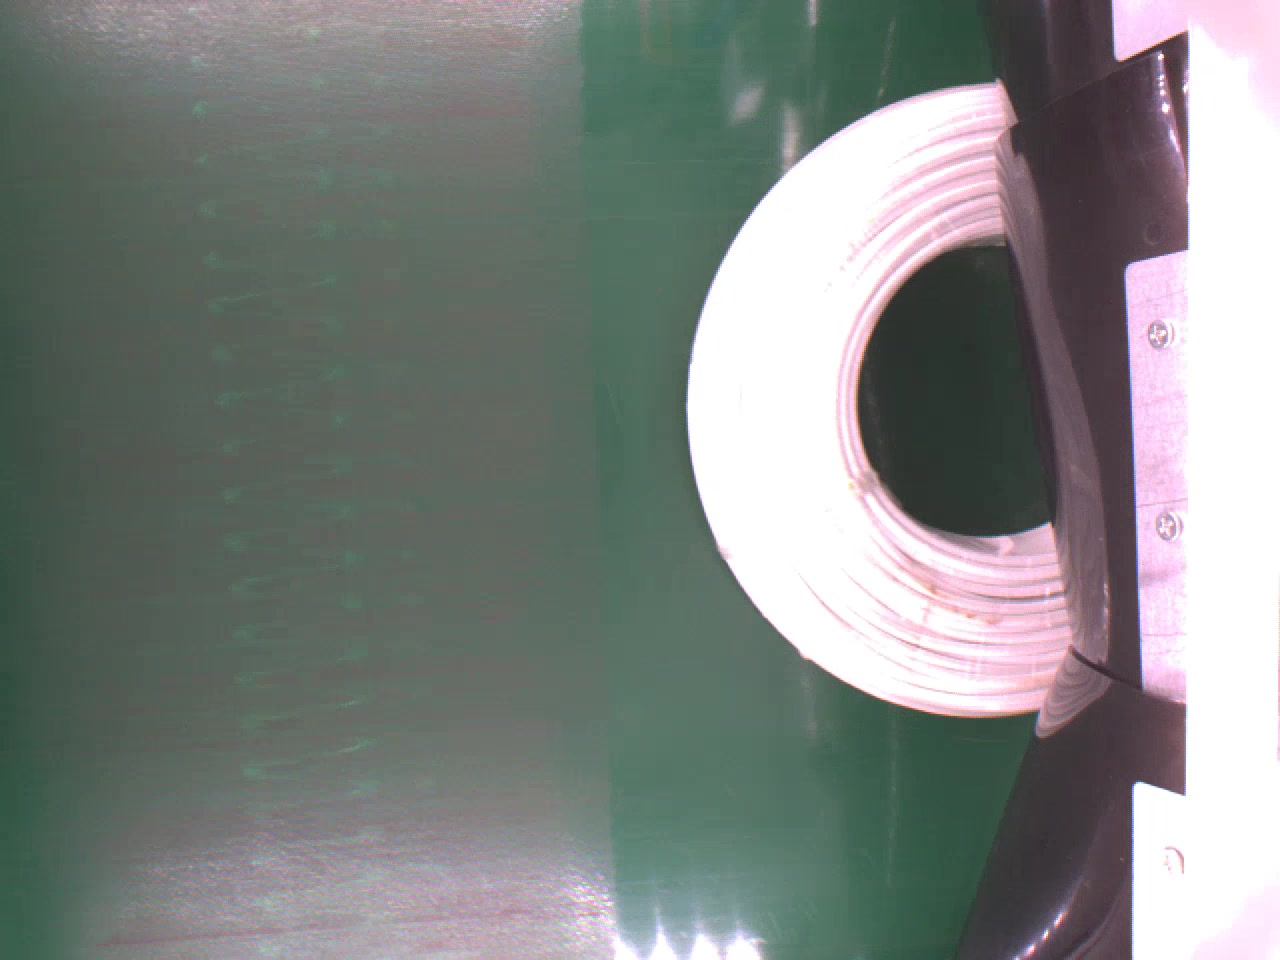white: (670, 78, 1066, 717)
